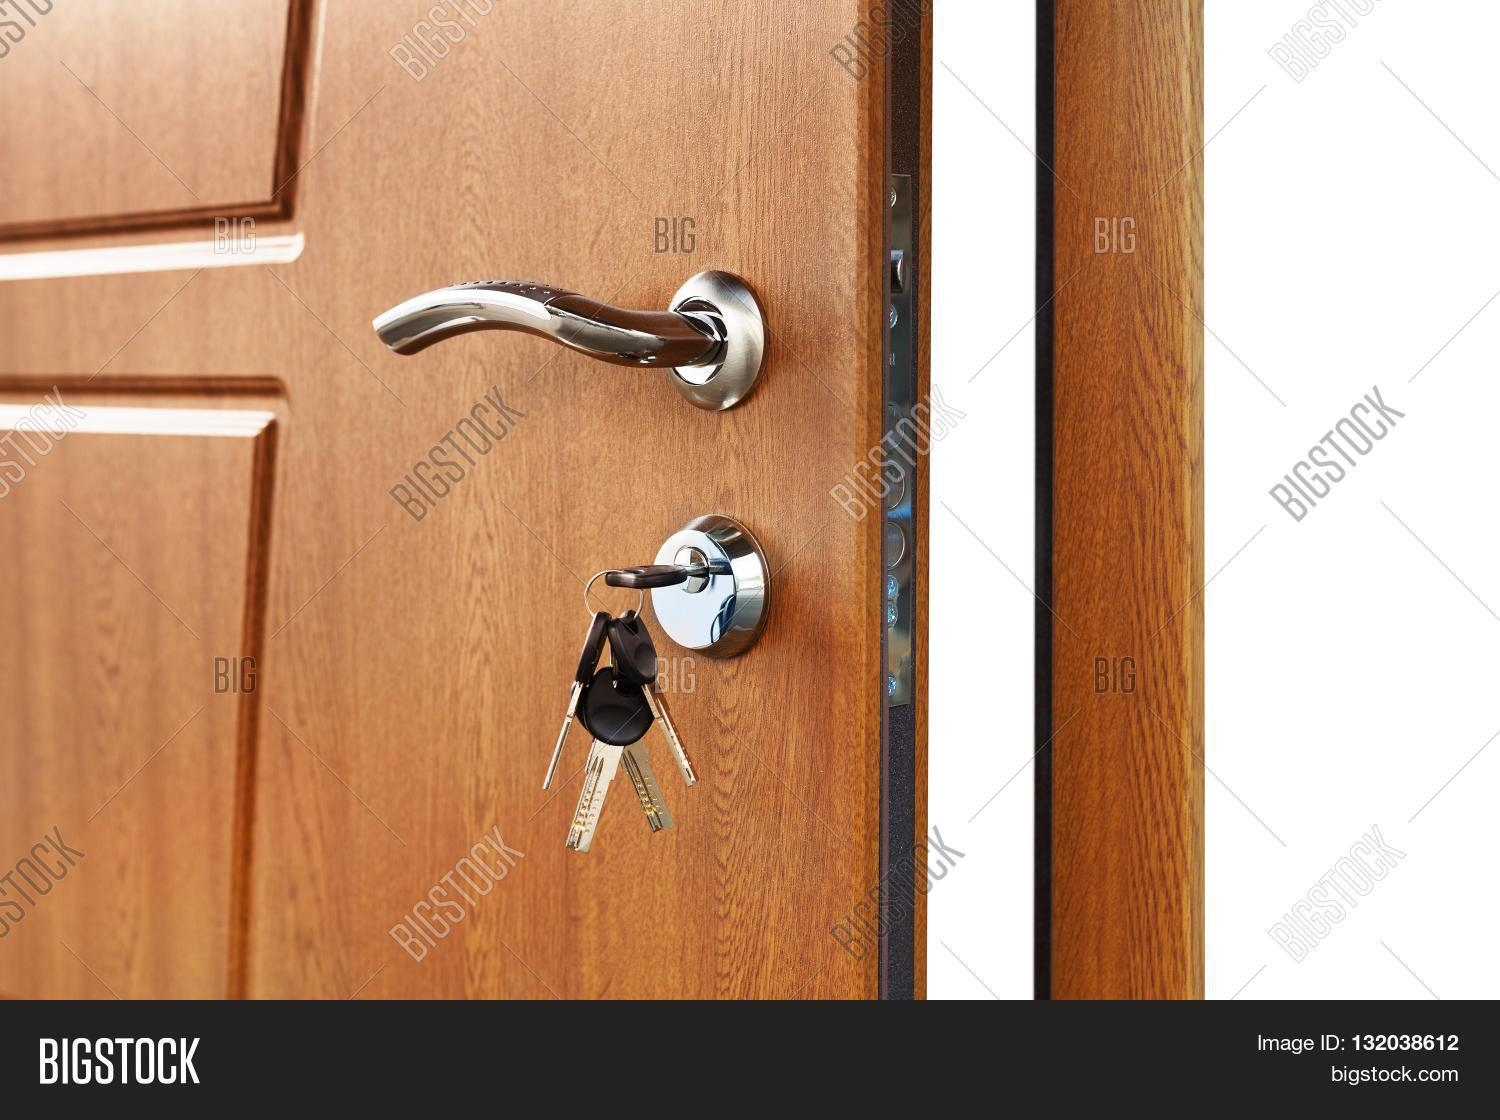doorhandle: (333, 198, 824, 451)
